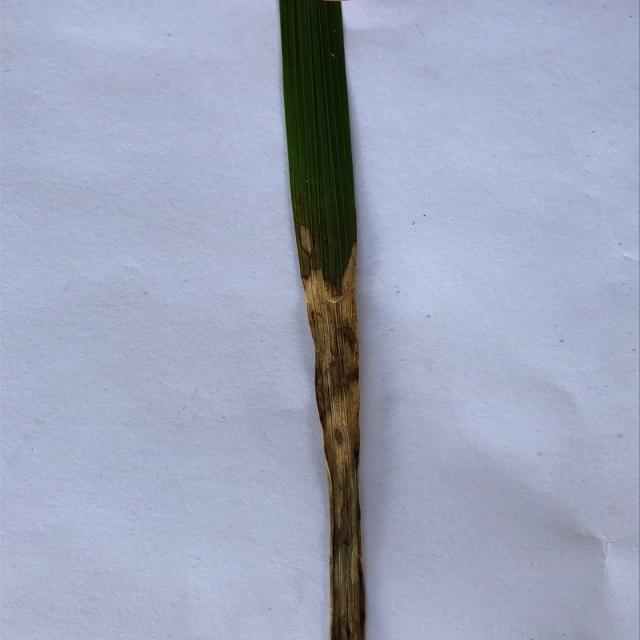leaf blight: (302, 242, 369, 640), (297, 226, 317, 253)
